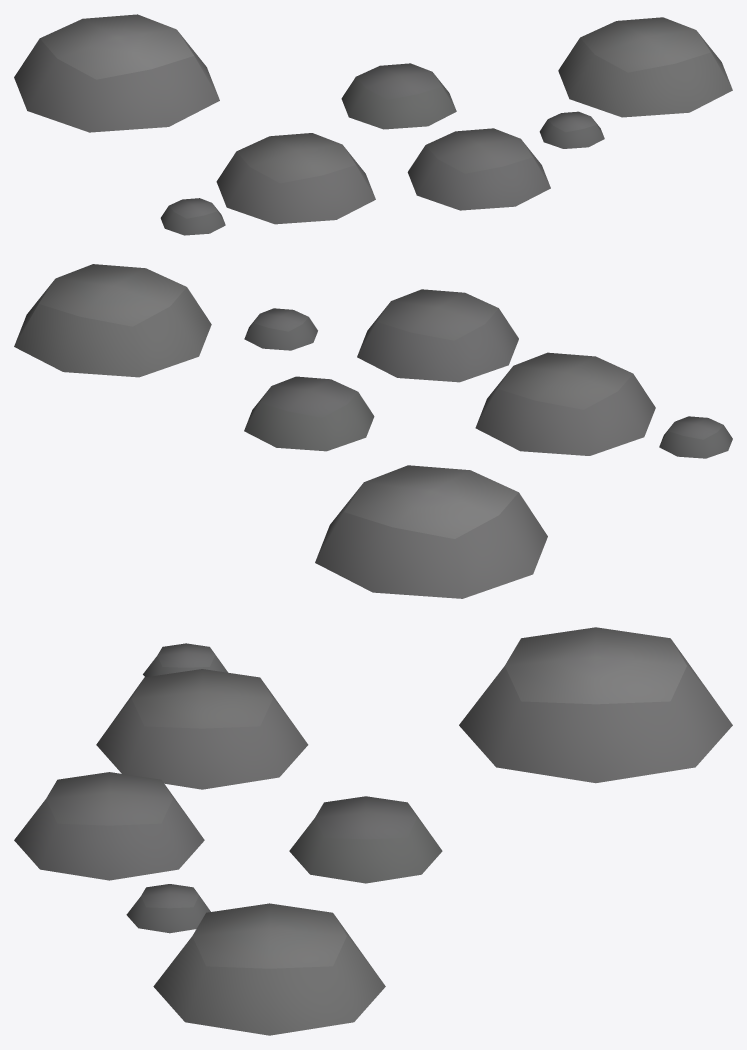
Rendered from Pebles_1_B_1_.glb.
3 views of the same model, one above another, from view 1: azimuth 30°, elevation 25°; view 2: azimuth 150°, elevation 25°; view 3: azimuth 270°, elevation 25° (orthographic). The views are drawn at different scales.
Visible parts, largest first — view 1: Pebles_1_B_1; view 2: Pebles_1_B_1; view 3: Pebles_1_B_1.
Boxes of the visible parts, x1,y1,x2,y2 form: Pebles_1_B_1: (14,14,732,235); Pebles_1_B_1: (14,264,732,598); Pebles_1_B_1: (14,627,732,1035).
Size of the model in its own units: 1.41 by 0.1178 by 1.13.
Materials: 1 (1 with a texture image).
